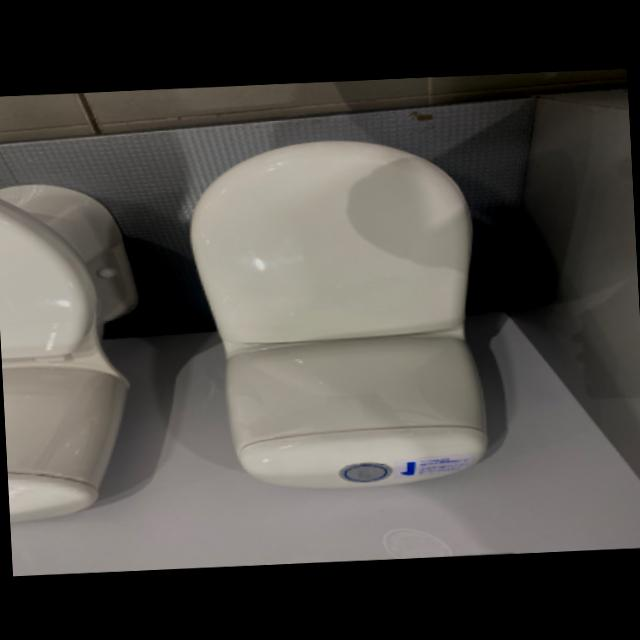toilet: (183, 131, 490, 498), (0, 179, 150, 526)
